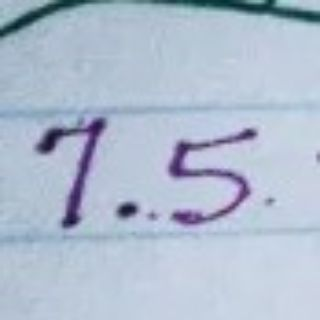.: (113, 196, 141, 222)
5: (158, 126, 264, 226)
7: (35, 116, 106, 235)
